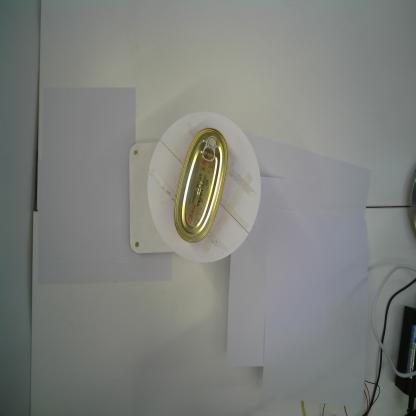Canned Food: (173, 127, 228, 244)
